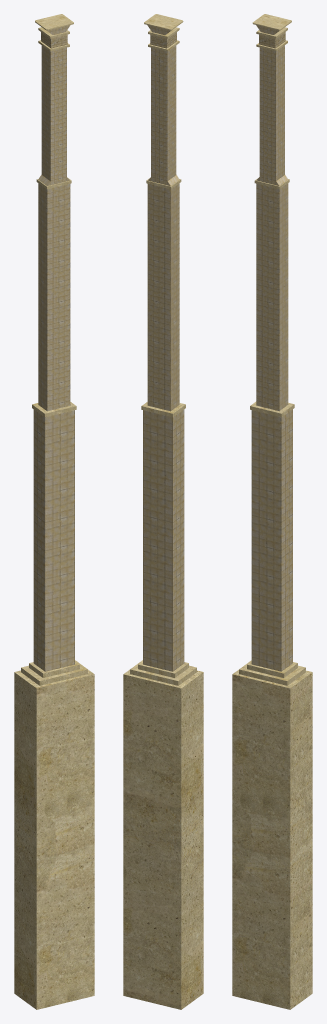
File: bridge_structure_pillar_one.dae
The picture shows the model from 3 angles, left to right: view 1: azimuth 30°, elevation 25°; view 2: azimuth 150°, elevation 25°; view 3: azimuth 330°, elevation 25°; orthographic projection.
Parts seen in each view (by area): view 1: bridge_structure_pillar_one; view 2: bridge_structure_pillar_one; view 3: bridge_structure_pillar_one.
Boxes of the visible parts, bbox=[...] form: bridge_structure_pillar_one: bbox=[14, 14, 94, 1009]; bridge_structure_pillar_one: bbox=[123, 14, 203, 1009]; bridge_structure_pillar_one: bbox=[232, 14, 312, 1009].
Bounding box in the file's own units: 14.33 × 9.57 × 230.
3 materials, 3 textured.
